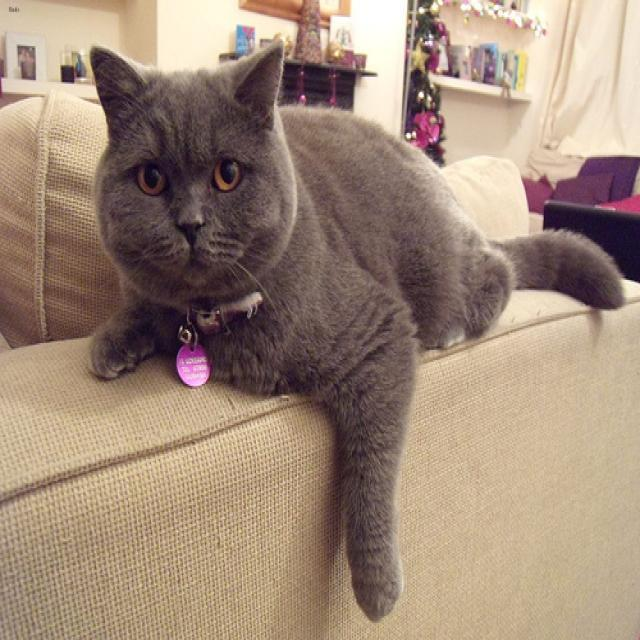British_Shorthair: (88, 38, 283, 284)
